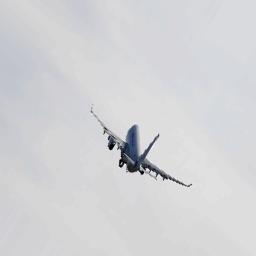Airplane: (89, 103, 192, 190)
